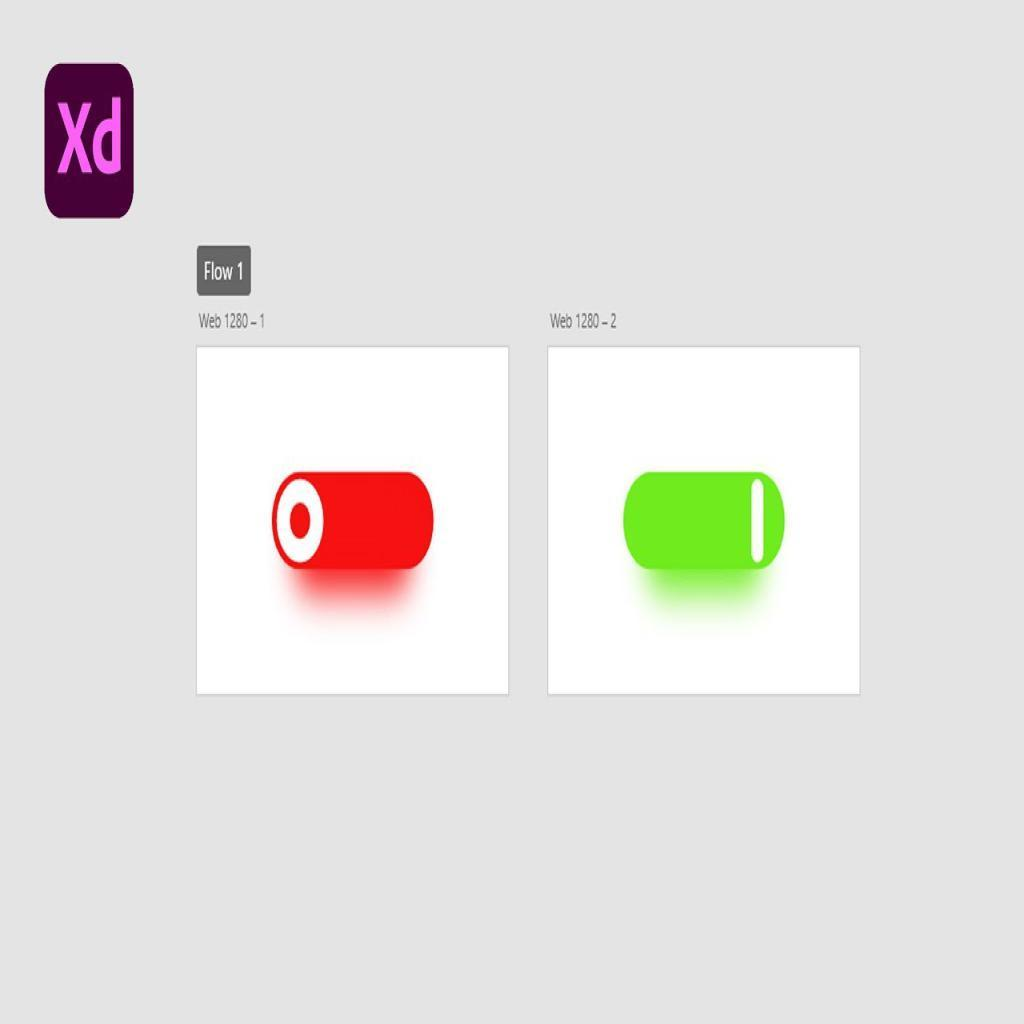switch: (624, 471, 789, 574), (273, 472, 437, 574)
